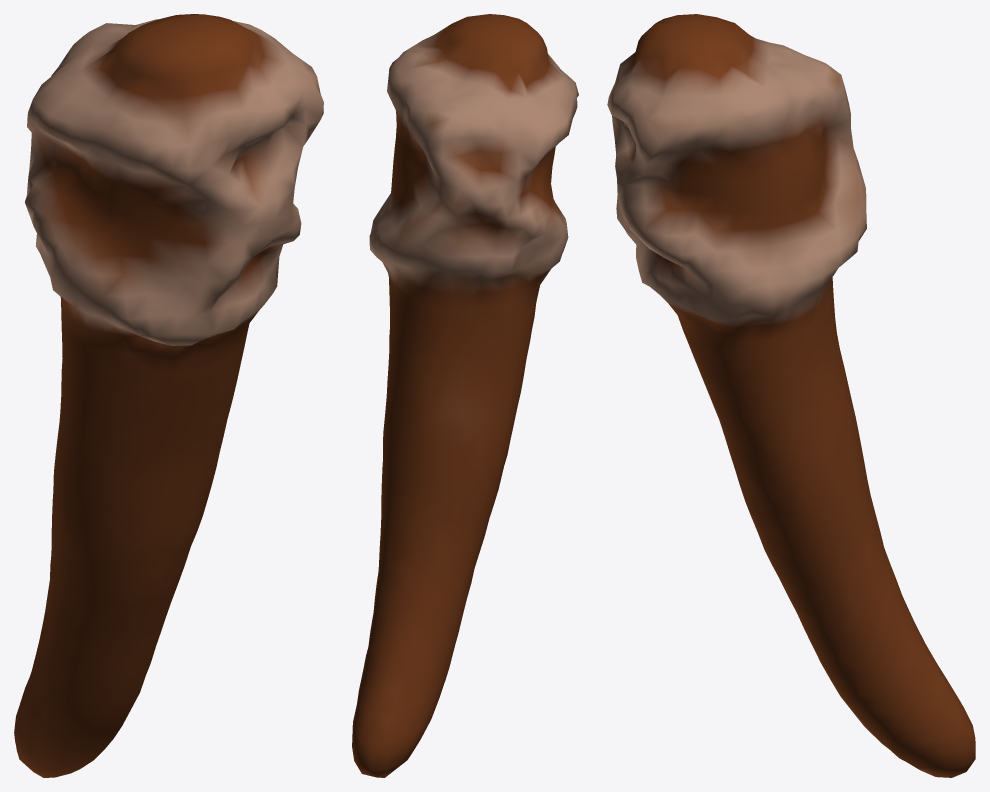
Rendered from Torche.fbx.
3 renders of one model, left to right at view 1: azimuth 30°, elevation 25°; view 2: azimuth 150°, elevation 25°; view 3: azimuth 270°, elevation 25°, orthographic. The views are drawn at different scales.
Visible parts, largest first — view 1: PolySphere_1; view 2: PolySphere_1; view 3: PolySphere_1.
Boxes of the visible parts, x1=… form: PolySphere_1: x1=14, y1=14, x2=323, y2=777; PolySphere_1: x1=352, y1=14, x2=578, y2=777; PolySphere_1: x1=607, y1=14, x2=975, y2=777.
Size of the model in its own units: 1.67 by 5.79 by 2.58.
